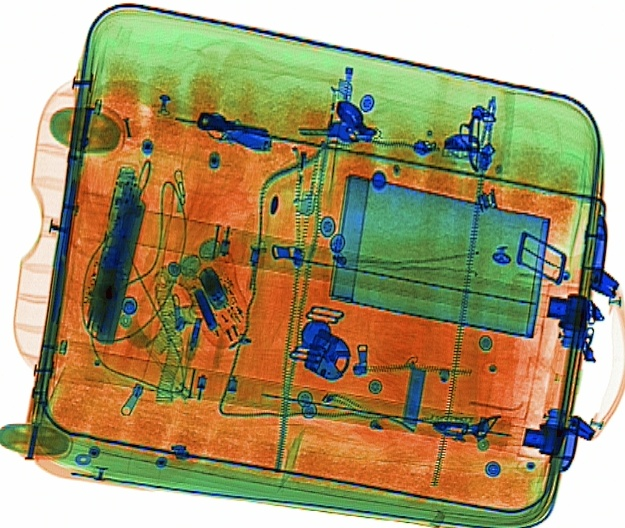lighter: (289, 103, 331, 219)
powerbank: (78, 159, 149, 346)
